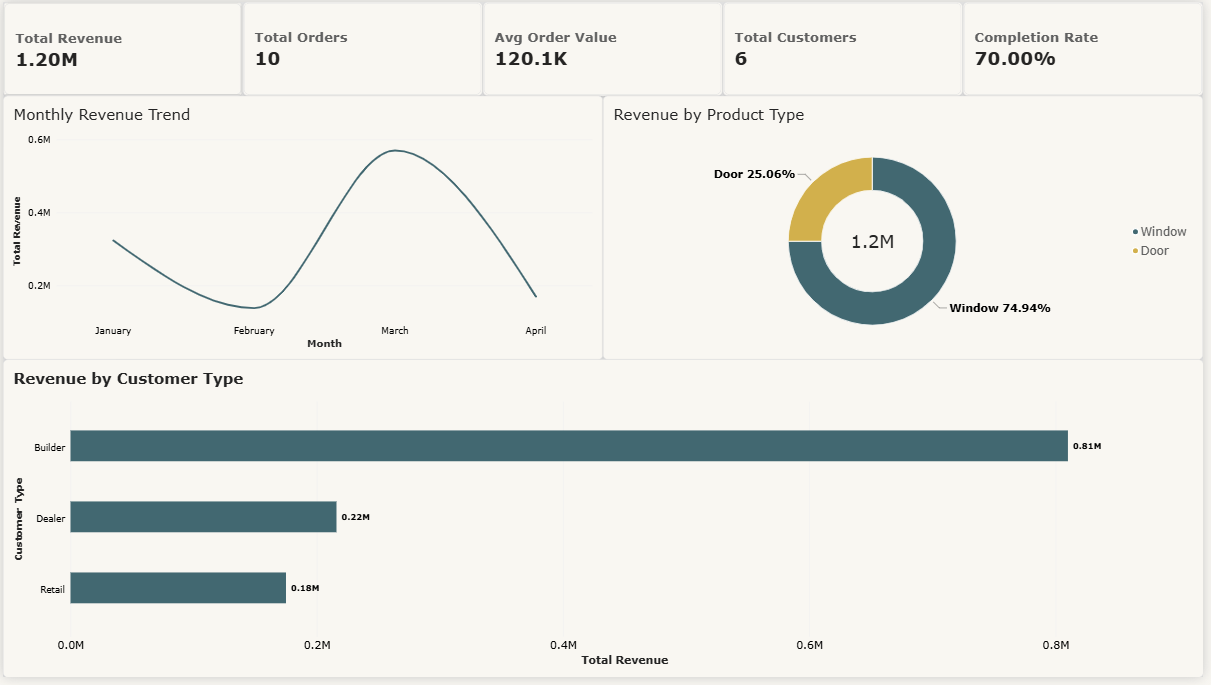

Layout of this report page (visuals, bound fields, positions):
{"tool":"powerbi","page":{"name":"Executive Summary","canvas":[1920,1080],"ordinal":0},"visuals":[{"type":"cardVisual","fields":{"Data":["orders.Completion Rate"]},"box":[1536,0,384,150],"z":0},{"type":"cardVisual","fields":{"Data":["orders.Total Orders"]},"box":[384,0,383,150],"z":1000},{"type":"cardVisual","fields":{"Data":["orders.Avg Order Value"]},"box":[768,0,383,150],"z":2000},{"type":"cardVisual","fields":{"Data":["orders.Total Customers"]},"box":[1152,0,383,150.3],"z":3000},{"type":"cardVisual","title":"Total Revenue","fields":{"Data":["orders.Total Revenue"]},"box":[0,0,383,150],"z":4000},{"type":"lineChart","title":"Monthly Revenue Trend","fields":{"Category":["orders.order_date.Variation.Date Hierarchy.Month"],"Y":["orders.Total Revenue"]},"box":[0,150,960,422],"z":5000},{"type":"donutChart","title":"Revenue by Product Type","fields":{"Category":["orders.product_type"],"Y":["orders.Total Revenue"]},"box":[960,150,960,422],"z":6000},{"type":"clusteredBarChart","title":"Revenue by Customer Type","fields":{"Category":["customers.customer_type"],"Y":["orders.Total Revenue"]},"box":[0,572.2,1920.4,508.4],"z":7000}]}

Visuals, with their boxes in screenshot pixels (x1, y1, x2, y2), scaled from the page's 1920x1080 canvas onto the 1211x685 screenshot:
cardVisual - orders.Completion Rate: crop(969, 0, 1210, 95)
cardVisual - orders.Total Orders: crop(242, 0, 484, 95)
cardVisual - orders.Avg Order Value: crop(484, 0, 726, 95)
cardVisual - orders.Total Customers: crop(727, 0, 968, 95)
"Total Revenue" cardVisual: crop(0, 0, 242, 95)
"Monthly Revenue Trend" lineChart: crop(0, 95, 606, 363)
"Revenue by Product Type" donutChart: crop(606, 95, 1210, 363)
"Revenue by Customer Type" clusteredBarChart: crop(0, 363, 1210, 684)
